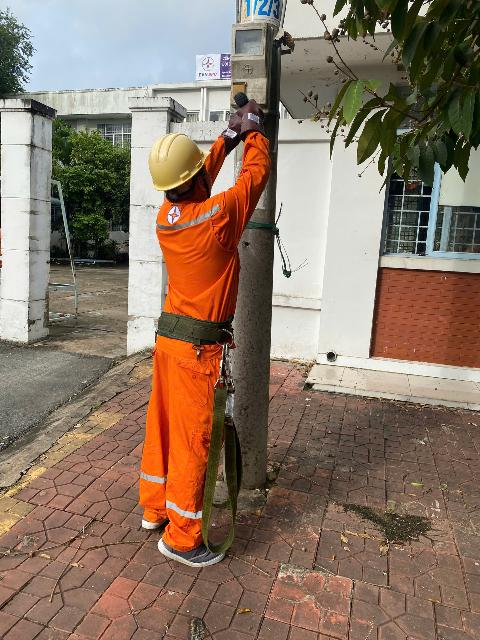gloves: (242, 96, 287, 158), (218, 109, 248, 153)
harness: (127, 291, 262, 360)
helmet: (145, 131, 215, 195)
shoes: (149, 523, 238, 578), (134, 488, 168, 530)
